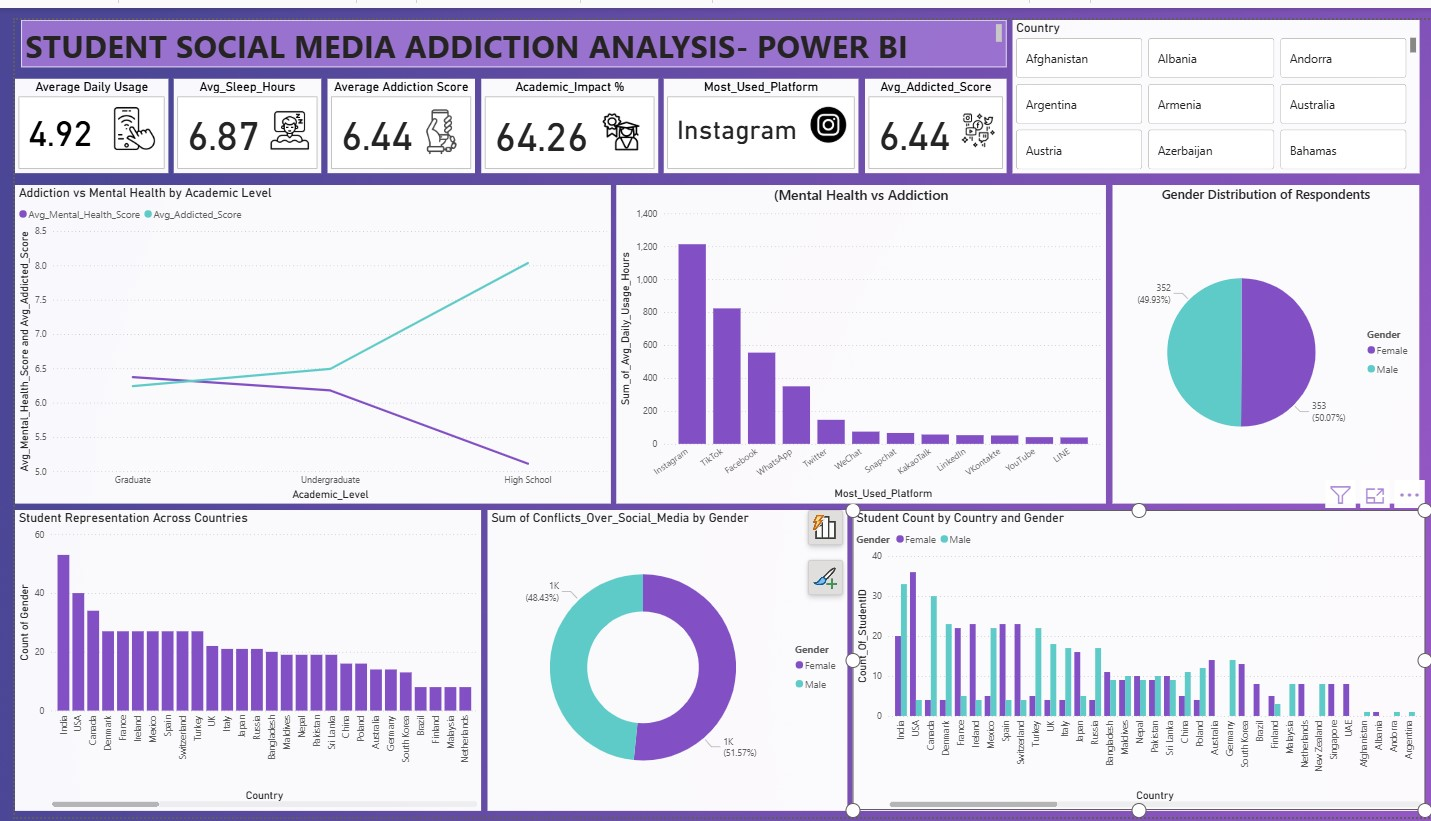

What the dashboard file says about the page in this screenshot:
{"tool":"powerbi","page":{"name":"Detailed Analysis","canvas":[1920,1080],"ordinal":0},"visuals":[{"type":"columnChart","title":"Student Representation Across Countries","fields":{"Y":["CountNonNull(Students Social Media Addiction.Gender)"],"Category":["Students Social Media Addiction.Country"]},"box":[0,680,944,392],"z":0},{"type":"pieChart","title":"Gender Distribution of Respondents","fields":{"Category":["Students Social Media Addiction.Gender"],"Y":["Students Social Media Addiction.Count_Of_StudentID"]},"box":[1496,256,416,416],"z":2000},{"type":"cardVisual","title":"Average Addiction Score","fields":{"Data":["Students Social Media Addiction.Avg_Addicted_Score"]},"box":[424,96,200,152],"z":3000},{"type":"cardVisual","title":"Avg_Sleep_Hours","fields":{"Data":["Students Social Media Addiction.Avg_Sleep_Hours"]},"box":[216,96,200,152],"z":4000},{"type":"cardVisual","title":"Academic_Impact %","fields":{"Data":["Students Social Media Addiction.Academic_Impact_Percentage"]},"box":[632,96,240,152],"z":5000},{"type":"cardVisual","title":"Avg_Addicted_Score","fields":{"Data":["Students Social Media Addiction.Avg_Addicted_Score"]},"box":[1152,96,192,152],"z":6000},{"type":"cardVisual","title":"Most_Used_Platform","fields":{"Data":["Students Social Media Addiction.Top_Social_Media_Platform"]},"box":[880,96,264,152],"z":7000},{"type":"clusteredColumnChart","title":"Student Count by Country and Gender","fields":{"Category":["Students Social Media Addiction.Country"],"Y":["Students Social Media Addiction.Count_Of_StudentID"],"Series":["Students Social Media Addiction.Gender"]},"box":[952,680,960,392],"z":8000},{"type":"textbox","box":[0,0,1648,64],"z":9000},{"type":"columnChart","title":"(Mental Health vs Addiction","fields":{"Category":["Students Social Media Addiction.Most_Used_Platform"],"Y":["Students Social Media Addiction.Sum_of_Avg_Daily_Usage_Hours"]},"box":[832,256,656,416],"z":10000},{"type":"lineChart","title":"Addiction vs Mental Health by Academic Level","fields":{"Category":["Students Social Media Addiction.Academic_Level"],"Y":["Students Social Media Addiction.Avg_Mental_Health_Score","Students Social Media Addiction.Avg_Addicted_Score"]},"box":[0,256,824,416],"z":11000},{"type":"cardVisual","title":"Average Daily Usage","fields":{"Data":["Students Social Media Addiction.Avg_Daily_Usage"]},"box":[0,96,208,152],"z":13000},{"type":"advancedSlicerVisual","fields":{"Values":["Students Social Media Addiction.Country"]},"box":[1352,72,560,176],"z":13001}]}

Visuals, with their boxes in screenshot pixels (x1, y1, x2, y2), scaled from the page's 1920x1080 canvas onto the 1431x821 screenshot:
"Student Representation Across Countries" columnChart: bbox=[0, 517, 704, 815]
"Gender Distribution of Respondents" pieChart: bbox=[1115, 195, 1425, 511]
"Average Addiction Score" cardVisual: bbox=[316, 73, 465, 189]
"Avg_Sleep_Hours" cardVisual: bbox=[161, 73, 310, 189]
"Academic_Impact %" cardVisual: bbox=[471, 73, 650, 189]
"Avg_Addicted_Score" cardVisual: bbox=[859, 73, 1002, 189]
"Most_Used_Platform" cardVisual: bbox=[656, 73, 853, 189]
"Student Count by Country and Gender" clusteredColumnChart: bbox=[710, 517, 1425, 815]
textbox: bbox=[0, 0, 1228, 49]
"(Mental Health vs Addiction" columnChart: bbox=[620, 195, 1109, 511]
"Addiction vs Mental Health by Academic Level" lineChart: bbox=[0, 195, 614, 511]
"Average Daily Usage" cardVisual: bbox=[0, 73, 155, 189]
advancedSlicerVisual - Students Social Media Addiction.Country: bbox=[1008, 55, 1425, 189]
